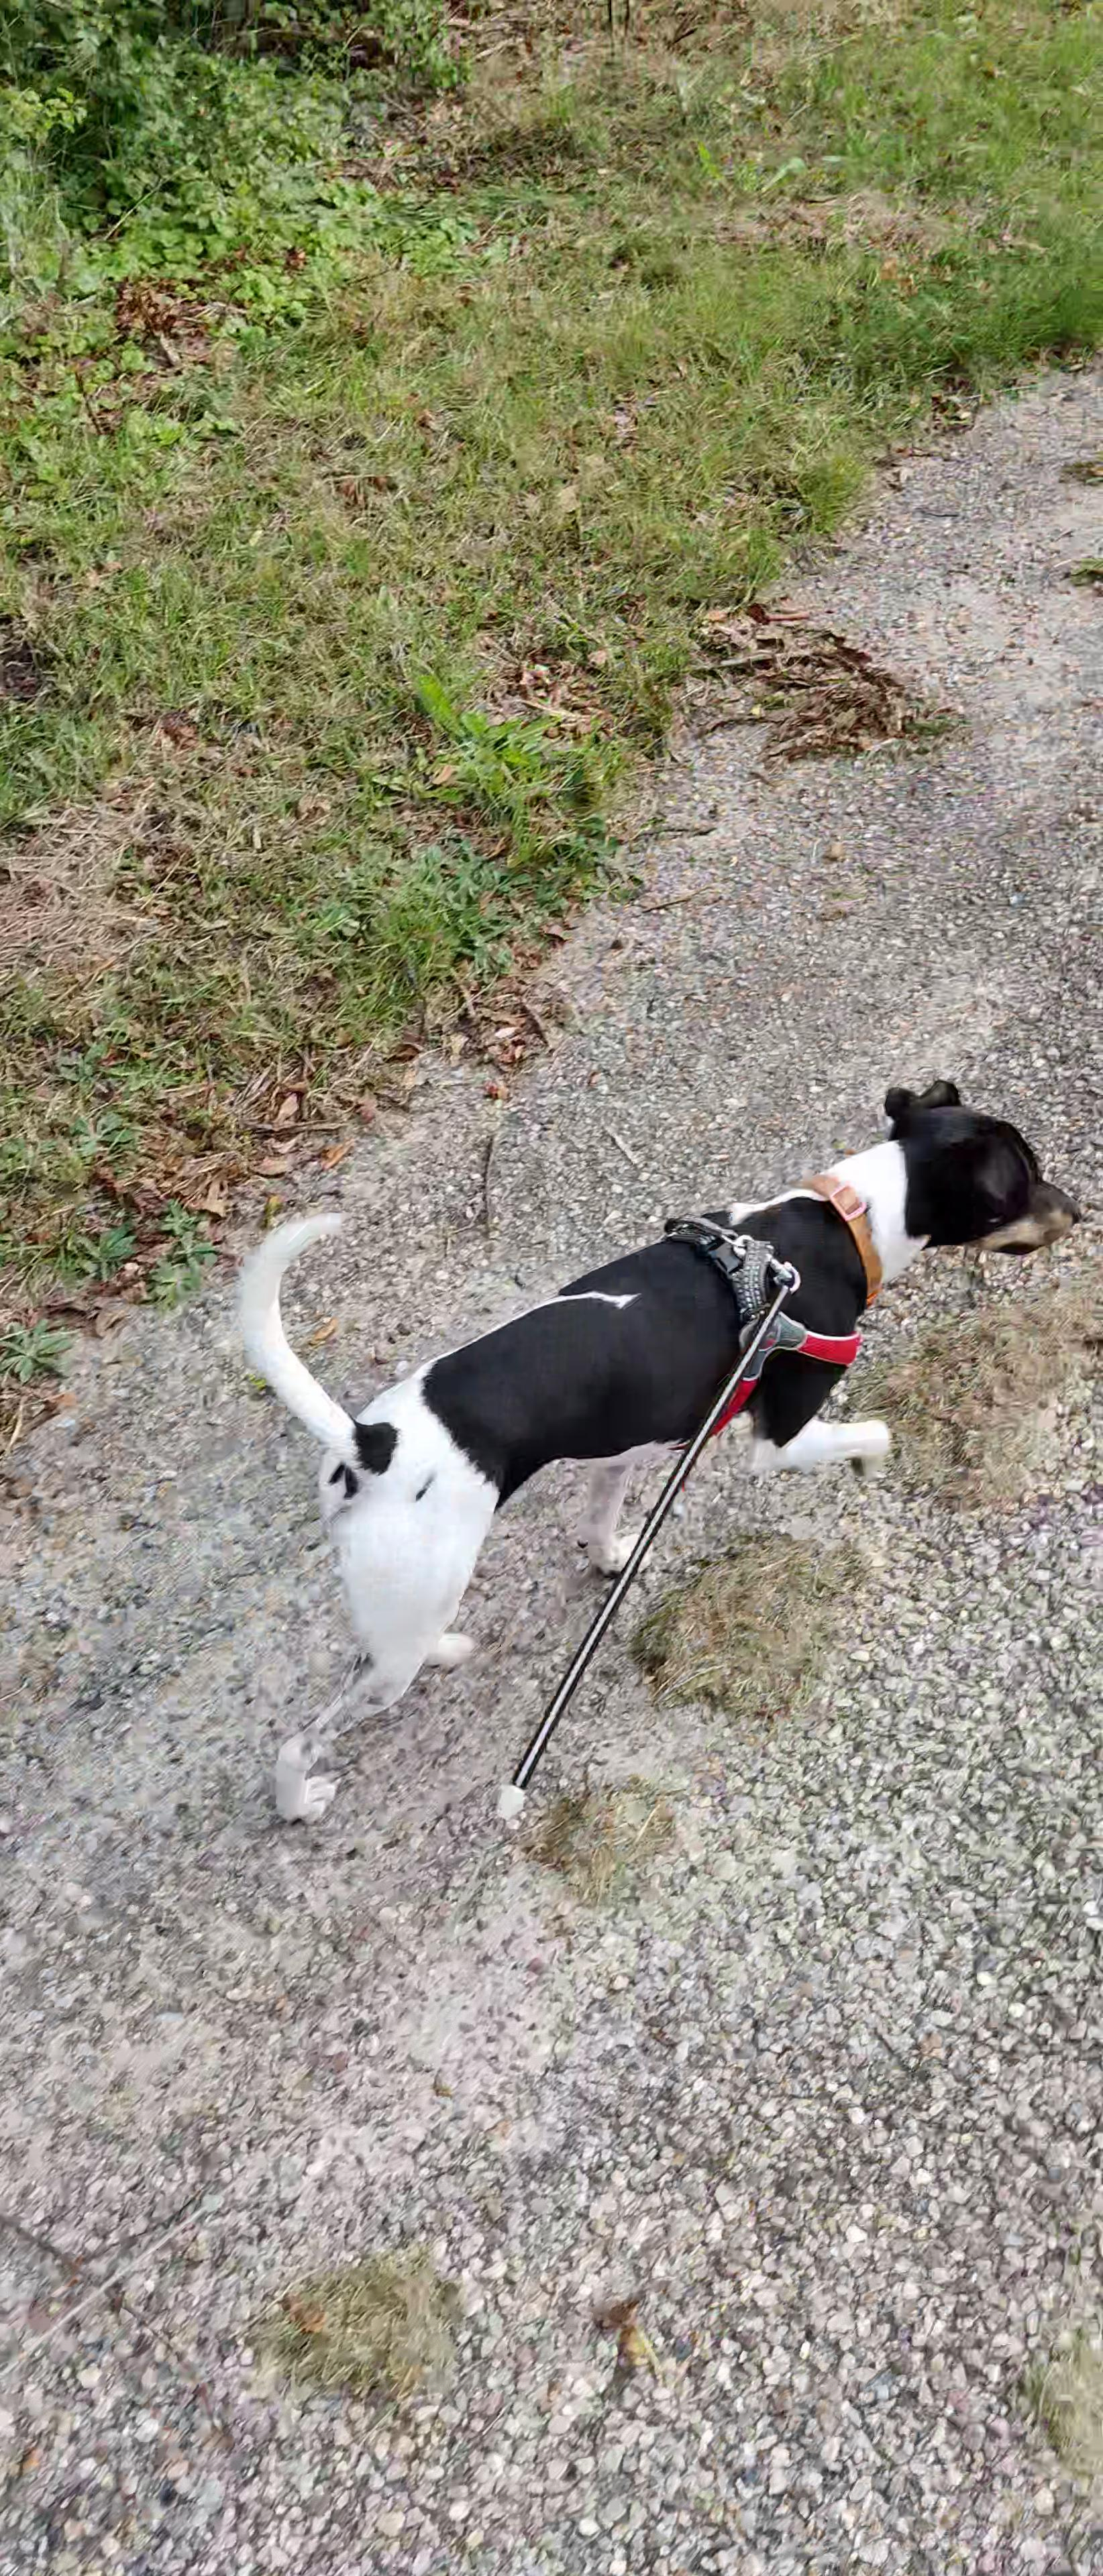Dog: (227, 1069, 1090, 1856)
